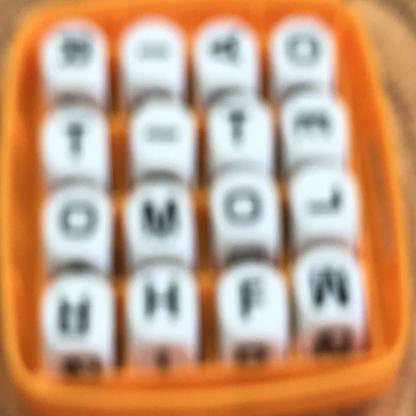e: (289, 100, 343, 148)
f: (233, 269, 276, 339)
h: (140, 267, 195, 336)
i: (137, 102, 193, 171), (128, 22, 181, 74)
l: (289, 170, 360, 233)
m: (126, 185, 194, 251), (298, 253, 364, 320)
o: (217, 177, 273, 239), (278, 24, 334, 82), (53, 193, 107, 251)
r: (43, 277, 109, 350), (48, 11, 104, 90)
t: (210, 99, 266, 156), (53, 105, 99, 170)
y: (202, 24, 256, 78)
